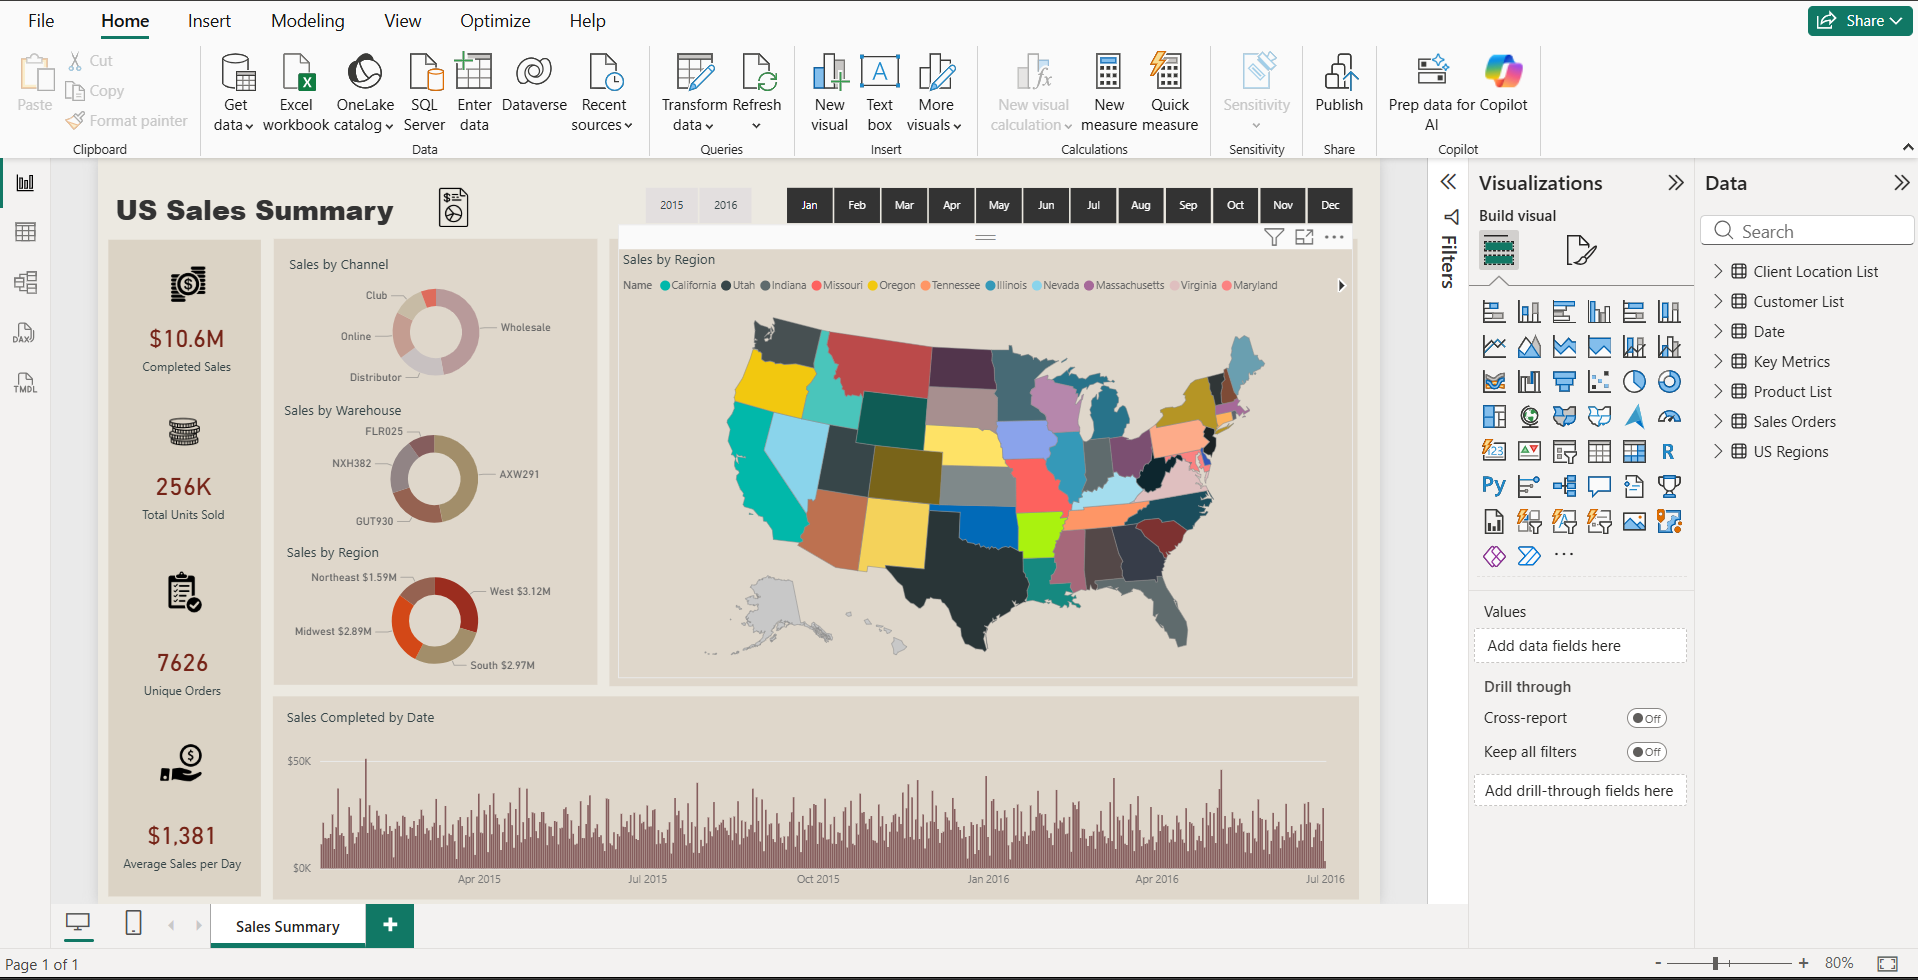

What the dashboard file says about the page in this screenshot:
{"tool":"powerbi","page":{"name":"Sales Summary","canvas":[1280,720],"ordinal":0},"visuals":[{"type":"basicShape","box":[503.6,50.9,762.4,455.9],"z":0},{"type":"basicShape","box":[8.6,49.7,155.5,669.2],"z":1000},{"type":"basicShape","box":[172.5,51,329.8,454.5],"z":2000},{"type":"basicShape","box":[163.8,510.1,1106.8,207.1],"z":3000},{"type":"columnChart","title":"Sales Completed by Date","fields":{"Category":["Date.Date"],"Y":["Key Metrics.Total Sales Completed"]},"box":[183,524.1,1068.8,188.4],"z":4000},{"type":"textbox","box":[12.2,2,306.6,51.8],"z":5000},{"type":"shapeMap","title":"Sales by Region","fields":{"Value":["Key Metrics.Completed Sales"],"Category":["US Regions.Name"],"Series":["US Regions.Name"]},"box":[519.8,66.2,732.9,428.4],"z":6000},{"type":"card","fields":{"Values":["Key Metrics.Total Sales Completed"]},"box":[18.3,128.9,140.1,68],"z":7000},{"type":"card","fields":{"Values":["Key Metrics.Total Units Sold"]},"box":[24.8,277.6,121,67],"z":8000},{"type":"card","fields":{"Values":["Key Metrics.Unique Orders"]},"box":[20.3,453.7,128.9,66],"z":9000},{"type":"donutChart","title":"Sales by Channel","fields":{"Y":["Key Metrics.Total Sales Completed"],"Category":["Unleashed Sales Orders.Customer Type"]},"box":[185.8,71.3,303.5,138.3],"z":10000},{"type":"donutChart","title":"Sales by Warehouse","fields":{"Category":["Unleashed Sales Orders.WarehouseCode"],"Y":["Key Metrics.Total Sales Completed"]},"box":[181.5,217.1,310,139.3],"z":11000},{"type":"donutChart","title":"Sales by Region","fields":{"Category":["US Regions.Region"],"Y":["Key Metrics.Total Sales Completed"]},"box":[184,359.8,306.4,137.8],"z":12000},{"type":"card","fields":{"Values":["Key Metrics.Average Sales per Day"]},"box":[16.2,622.2,136,74.1],"z":13000},{"type":"slicer","fields":{"Values":["Date.ShortMth"]},"box":[663.6,0,613.1,45],"z":14000},{"type":"slicer","fields":{"Values":["Date.Year"]},"box":[523,0,153.8,45],"z":15000},{"type":"image","box":[329.9,0,50.8,48.7],"z":16000},{"type":"image","box":[53.8,78.2,73.1,44.7],"z":17000},{"type":"image","box":[54,227.9,65.9,40],"z":18000},{"type":"image","box":[55.8,382.7,61.9,50.8],"z":19000},{"type":"image","box":[51.8,553,60.5,51.8],"z":20000}]}

Visuals, with their boxes on the page's 1280x720 design canvas (x1, y1, x2, y2). These are canvas units, not pixel positions in the 1918x980 screenshot, which may show the page scaled, cropped or inside an application window:
basicShape: 504/51/1266/507
basicShape: 9/50/164/719
basicShape: 172/51/502/506
basicShape: 164/510/1271/717
"Sales Completed by Date" columnChart: 183/524/1252/712
textbox: 12/2/319/54
"Sales by Region" shapeMap: 520/66/1253/495
card - Key Metrics.Total Sales Completed: 18/129/158/197
card - Key Metrics.Total Units Sold: 25/278/146/345
card - Key Metrics.Unique Orders: 20/454/149/520
"Sales by Channel" donutChart: 186/71/489/210
"Sales by Warehouse" donutChart: 182/217/492/356
"Sales by Region" donutChart: 184/360/490/498
card - Key Metrics.Average Sales per Day: 16/622/152/696
slicer - Date.ShortMth: 664/0/1277/45
slicer - Date.Year: 523/0/677/45
image: 330/0/381/49
image: 54/78/127/123
image: 54/228/120/268
image: 56/383/118/434
image: 52/553/112/605
